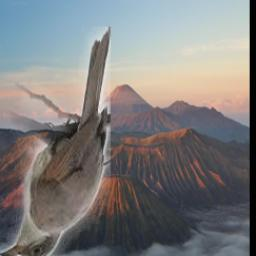Cuckoo: (0, 28, 111, 256)
